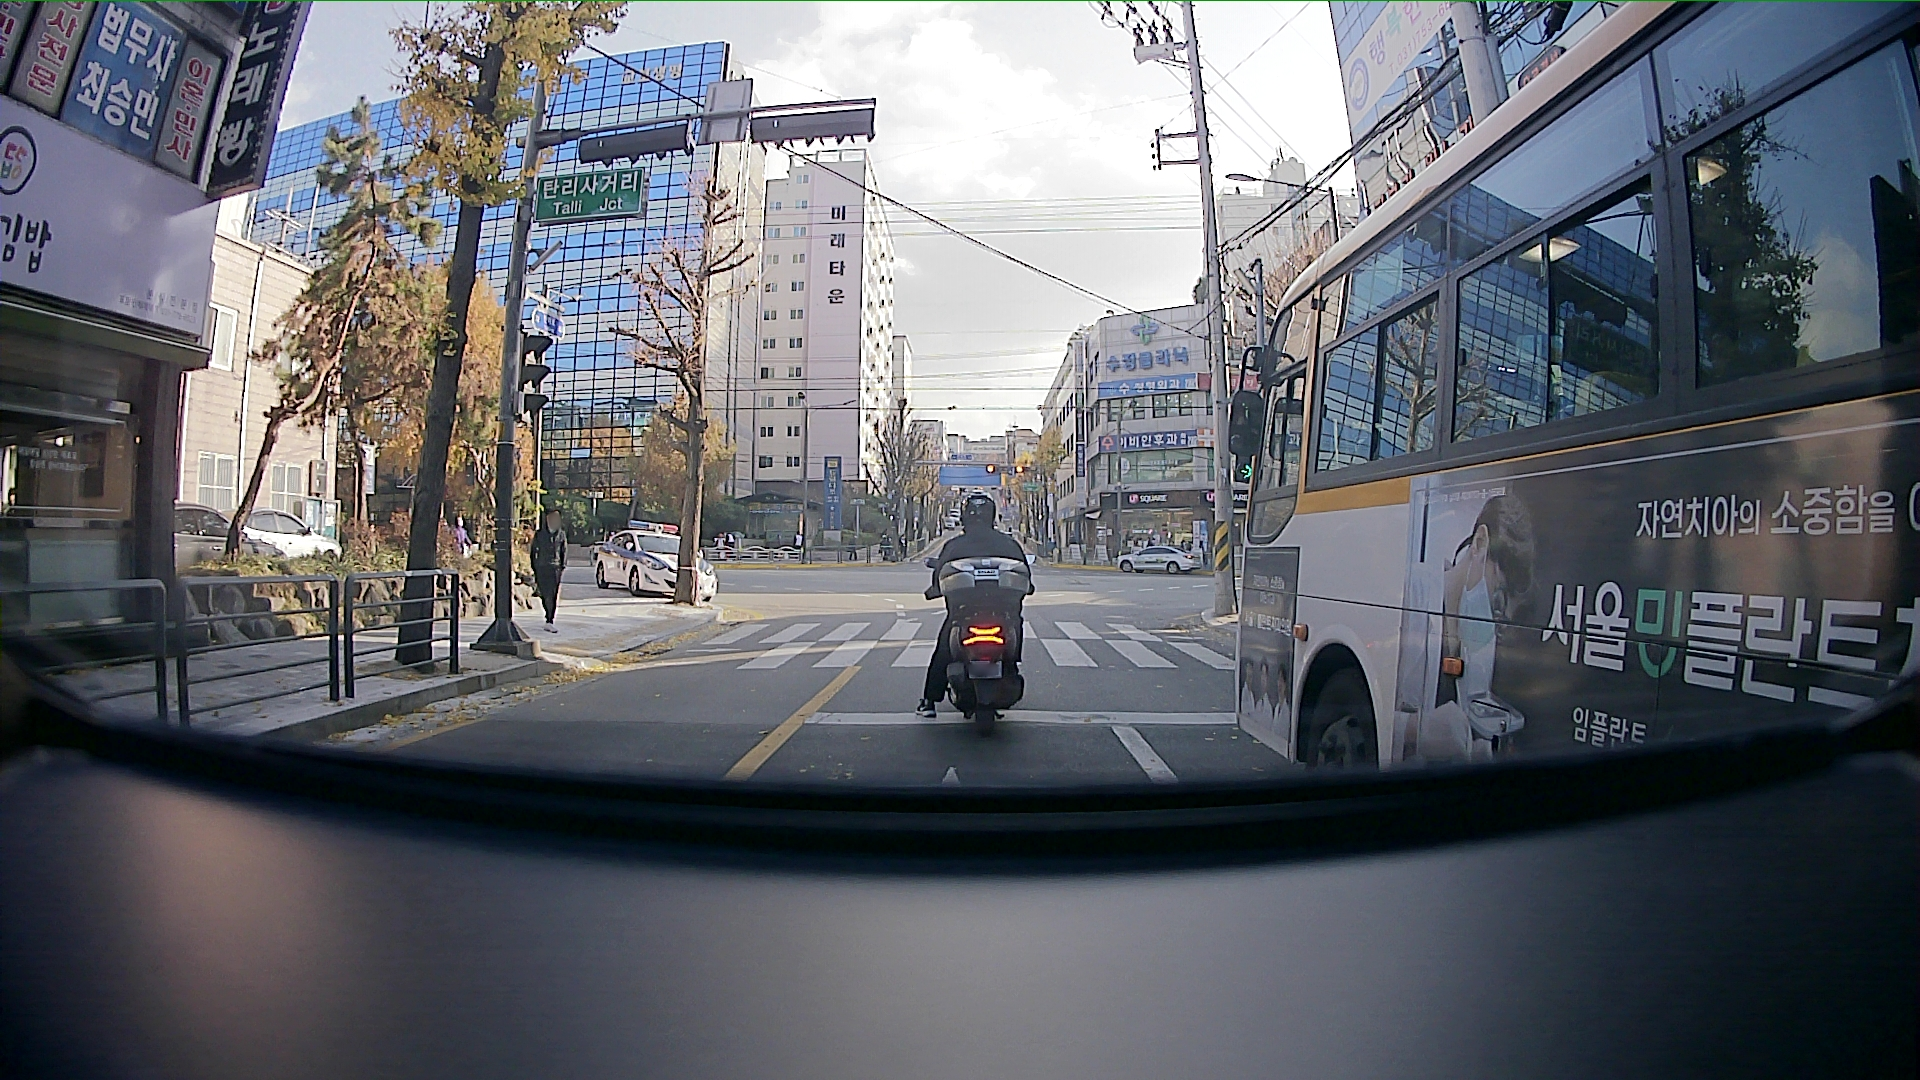trafficLight: (986, 462, 1034, 477)
